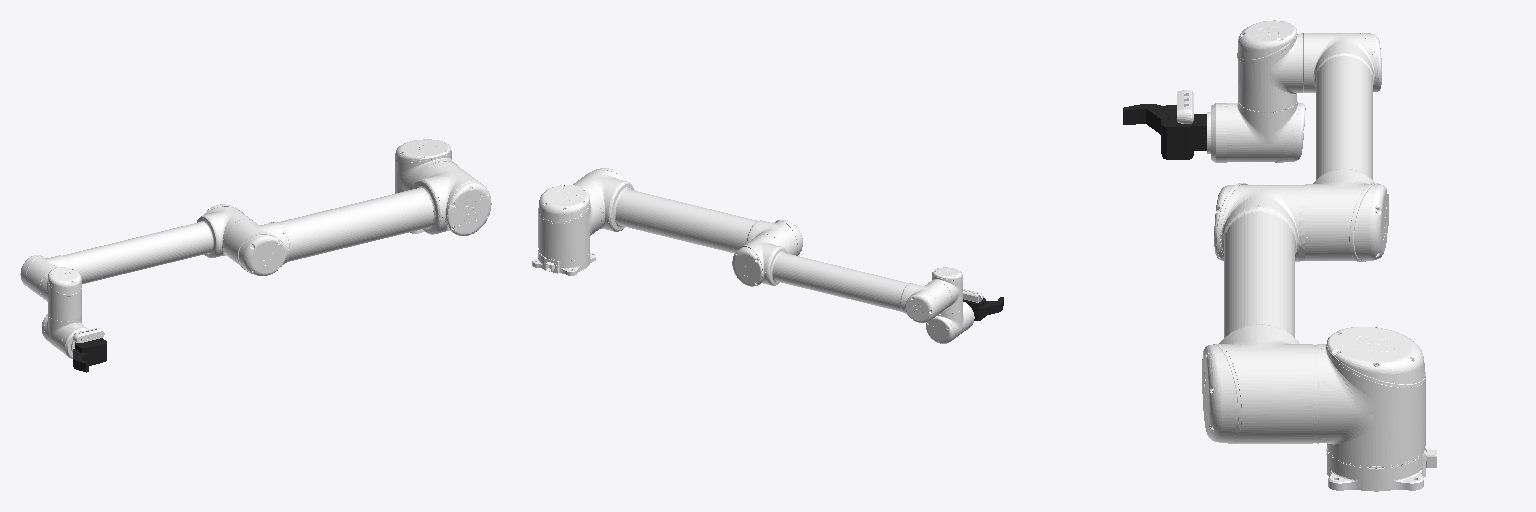
URDF robot description (ur10_robotis_d435):
<?xml version="1.0" ?>
<!-- =================================================================================== -->
<!-- |    This document was autogenerated by xacro from xacro/ur10_robot.urdf.xacro    | -->
<!-- |    EDITING THIS FILE BY HAND IS NOT RECOMMENDED                                 | -->
<!-- =================================================================================== -->
<robot name="ur10_robotis_d435">
  <!--
  Author: Kelsey Hawkins
  Contributers: Jimmy Da Silva, Ajit Krisshna N L, Muhammad Asif Rana
-->
  <!-- ROS base_link to UR 'Base' Coordinates transform -->
  <link name="base">
    <inertial>
      <mass value="1e-3"/>
      <origin rpy="0 0 0" xyz="0.0 0.0 0.0"/>
      <inertia ixx="1e-5" ixy="0.0" ixz="0.0" iyy="1e-5" iyz="0.0" izz="1e-5"/>
    </inertial>
  </link>
  <joint name="base_link-base_fixed_joint" type="fixed">
    <!-- NOTE: this rotation is only needed as long as base_link itself is
                 not corrected wrt the real robot (ie: rotated over 180
                 degrees)
      -->
    <origin rpy="0 0 -3.141592653589793" xyz="0 0 0"/>
    <parent link="base"/>
    <child link="base_link"/>
  </joint>
  <!-- measured from model -->
  <!-- Calibration values used from ELPIS UR10 Robot -->
  <link name="base_link">
    <visual>
      <geometry>
        <mesh filename="package://ur10/visual/base.obj"/>
      </geometry>
      <material name="white">
        <color rgba="1.0 1.0 1.0 1.0"/>
      </material>
    </visual>
    <collision>
      <geometry>
        <mesh filename="package://ur10/collision/base.stl"/>
      </geometry>
    </collision>
    <inertial>
      <mass value="4.0"/>
      <origin rpy="0 0 0" xyz="0.0 0.0 0.0"/>
      <inertia ixx="0.0061063308908" ixy="0.0" ixz="0.0" iyy="0.0061063308908" iyz="0.0" izz="0.01125"/>
    </inertial>
  </link>
  <joint name="shoulder_pan_joint" type="revolute">
    <parent link="base_link"/>
    <child link="shoulder_link"/>
    <origin rpy="0.0 0.0 0.0" xyz="0.0 0.0 0.1273"/>
    <axis xyz="0 0 1"/>
    <limit effort="330.0" lower="-1000" upper="1000" velocity="2.16"/>
    <dynamics damping="0.0" friction="0.0"/>
  </joint>
  <link name="shoulder_link">
    <visual>
      <geometry>
        <mesh filename="package://ur10/visual/shoulder.obj"/>
      </geometry>
      <material name="white">
        <color rgba="1.0 1.0 1.0 1.0"/>
      </material>
    </visual>
    <collision>
      <geometry>
        <mesh filename="package://ur10/collision/shoulder.stl"/>
      </geometry>
    </collision>
    <inertial>
      <mass value="7.778"/>
      <origin rpy="0 0 0" xyz="0.0 0.0 0.0"/>
      <inertia ixx="0.03147431257693659" ixy="0.0" ixz="0.0" iyy="0.03147431257693659" iyz="0.0" izz="0.021875624999999996"/>
    </inertial>
  </link>
  <joint name="shoulder_lift_joint" type="revolute">
    <parent link="shoulder_link"/>
    <child link="upper_arm_link"/>
    <origin rpy="0.0 1.5707963267948966 0.0" xyz="0.0 0.220941 0.0"/>
    <axis xyz="0 1 0"/>
    <limit effort="330.0" lower="-6.283185307179586" upper="6.283185307179586" velocity="2.16"/>
    <dynamics damping="0.0" friction="0.0"/>
  </joint>
  <link name="upper_arm_link">
    <visual>
      <geometry>
        <mesh filename="package://ur10/visual/upperarm.obj"/>
      </geometry>
      <material name="white">
        <color rgba="1.0 1.0 1.0 1.0"/>
      </material>
    </visual>
    <collision>
      <geometry>
        <mesh filename="package://ur10/collision/upperarm.stl"/>
      </geometry>
    </collision>
    <inertial>
      <mass value="12.93"/>
      <origin rpy="0 0 0" xyz="0.0 -0.045 0.306"/>
      <inertia ixx="0.42175380379841093" ixy="0.0" ixz="0.0" iyy="0.42175380379841093" iyz="0.0" izz="0.03636562499999999"/>
    </inertial>
  </link>
  <joint name="elbow_joint" type="revolute">
    <parent link="upper_arm_link"/>
    <child link="forearm_link"/>
    <origin rpy="0.0 0.0 0.0" xyz="0.0 -0.1719 0.612"/>
    <axis xyz="0 1 0"/>
    <limit effort="150.0" lower="-3.141592653589793" upper="3.141592653589793" velocity="3.15"/>
    <dynamics damping="0.0" friction="0.0"/>
  </joint>
  <link name="forearm_link">
    <visual>
      <geometry>
        <mesh filename="package://ur10/visual/forearm.obj"/>
      </geometry>
      <material name="white">
        <color rgba="1.0 1.0 1.0 1.0"/>
      </material>
    </visual>
    <collision>
      <geometry>
        <mesh filename="package://ur10/collision/forearm.stl"/>
      </geometry>
    </collision>
    <inertial>
      <mass value="3.87"/>
      <origin rpy="0 0 0" xyz="0.0 0.0 0.28615"/>
      <inertia ixx="0.11106969409710458" ixy="0.0" ixz="0.0" iyy="0.11106969409710458" iyz="0.0" izz="0.010884375"/>
    </inertial>
  </link>
  <joint name="wrist_1_joint" type="revolute">
    <parent link="forearm_link"/>
    <child link="wrist_1_link"/>
    <origin rpy="0.0 1.5707963267948966 0.0" xyz="0.0 0.0 0.5723"/>
    <axis xyz="0 1 0"/>
    <limit effort="54.0" lower="-6.283185307179586" upper="6.283185307179586" velocity="3.2"/>
    <dynamics damping="0.0" friction="0.0"/>
  </joint>
  <link name="wrist_1_link">
    <visual>
      <geometry>
        <mesh filename="package://ur10/visual/wrist1.obj"/>
      </geometry>
      <material name="white">
        <color rgba="1.0 1.0 1.0 1.0"/>
      </material>
    </visual>
    <collision>
      <geometry>
        <mesh filename="package://ur10/collision/wrist1.stl"/>
      </geometry>
    </collision>
    <inertial>
      <mass value="1.96"/>
      <origin rpy="0 0 0" xyz="0.0 0.1149 0.0"/>
      <inertia ixx="0.005108247956699999" ixy="0.0" ixz="0.0" iyy="0.005108247956699999" iyz="0.0" izz="0.005512499999999999"/>
    </inertial>
  </link>
  <joint name="wrist_2_joint" type="revolute">
    <parent link="wrist_1_link"/>
    <child link="wrist_2_link"/>
    <origin rpy="0.0 0.0 0.0" xyz="0.0 0.1149 0.0"/>
    <axis xyz="0 0 1"/>
    <limit effort="54.0" lower="-6.283185307179586" upper="6.283185307179586" velocity="3.2"/>
    <dynamics damping="0.0" friction="0.0"/>
  </joint>
  <link name="wrist_2_link">
    <visual>
      <geometry>
        <mesh filename="package://ur10/visual/wrist2.obj"/>
      </geometry>
      <material name="white">
        <color rgba="1.0 1.0 1.0 1.0"/>
      </material>
    </visual>
    <collision>
      <geometry>
        <mesh filename="package://ur10/collision/wrist2.stl"/>
      </geometry>
    </collision>
    <inertial>
      <mass value="1.96"/>
      <origin rpy="0 0 0" xyz="0.0 0.0 0.1157"/>
      <inertia ixx="0.005108247956699999" ixy="0.0" ixz="0.0" iyy="0.005108247956699999" iyz="0.0" izz="0.005512499999999999"/>
    </inertial>
  </link>
  <joint name="wrist_3_joint" type="revolute">
    <parent link="wrist_2_link"/>
    <child link="wrist_3_link"/>
    <origin rpy="0.0 0.0 0.0" xyz="0.0 0.0 0.1157"/>
    <axis xyz="0 1 0"/>
    <limit effort="54.0" lower="-1000" upper="1000" velocity="3.2"/>
    <dynamics damping="0.0" friction="0.0"/>
  </joint>
  <link name="wrist_3_link">
    <visual>
      <geometry>
        <mesh filename="package://ur10/visual/wrist3.obj"/>
      </geometry>
      <material name="white">
        <color rgba="1.0 1.0 1.0 1.0"/>
      </material>
    </visual>
    <collision>
      <geometry>
        <mesh filename="package://ur10/collision/wrist3.stl"/>
      </geometry>
    </collision>
    <inertial>
      <mass value="0.202"/>
      <origin rpy="1.5707963267948966 0 0" xyz="0.0 0.07695 0.0"/>
      <inertia ixx="0.00011792166116465" ixy="0.0" ixz="0.0" iyy="0.00011792166116465" iyz="0.0" izz="0.00020452500000000002"/>
    </inertial>
  </link>
  <transmission name="shoulder_pan_trans">
    <type>transmission_interface/SimpleTransmission</type>
    <joint name="shoulder_pan_joint">
      <hardwareInterface>hardware_interface/PositionJointInterface</hardwareInterface>
    </joint>
    <actuator name="shoulder_pan_motor">
      <mechanicalReduction>1</mechanicalReduction>
    </actuator>
  </transmission>
  <transmission name="shoulder_lift_trans">
    <type>transmission_interface/SimpleTransmission</type>
    <joint name="shoulder_lift_joint">
      <hardwareInterface>hardware_interface/PositionJointInterface</hardwareInterface>
    </joint>
    <actuator name="shoulder_lift_motor">
      <mechanicalReduction>1</mechanicalReduction>
    </actuator>
  </transmission>
  <transmission name="elbow_trans">
    <type>transmission_interface/SimpleTransmission</type>
    <joint name="elbow_joint">
      <hardwareInterface>hardware_interface/PositionJointInterface</hardwareInterface>
    </joint>
    <actuator name="elbow_motor">
      <mechanicalReduction>1</mechanicalReduction>
    </actuator>
  </transmission>
  <transmission name="wrist_1_trans">
    <type>transmission_interface/SimpleTransmission</type>
    <joint name="wrist_1_joint">
      <hardwareInterface>hardware_interface/PositionJointInterface</hardwareInterface>
    </joint>
    <actuator name="wrist_1_motor">
      <mechanicalReduction>1</mechanicalReduction>
    </actuator>
  </transmission>
  <transmission name="wrist_2_trans">
    <type>transmission_interface/SimpleTransmission</type>
    <joint name="wrist_2_joint">
      <hardwareInterface>hardware_interface/PositionJointInterface</hardwareInterface>
    </joint>
    <actuator name="wrist_2_motor">
      <mechanicalReduction>1</mechanicalReduction>
    </actuator>
  </transmission>
  <transmission name="wrist_3_trans">
    <type>transmission_interface/SimpleTransmission</type>
    <joint name="wrist_3_joint">
      <hardwareInterface>hardware_interface/PositionJointInterface</hardwareInterface>
    </joint>
    <actuator name="wrist_3_motor">
      <mechanicalReduction>1</mechanicalReduction>
    </actuator>
  </transmission>
  <gazebo reference="shoulder_link">
    <selfCollide>true</selfCollide>
  </gazebo>
  <gazebo reference="upper_arm_link">
    <selfCollide>true</selfCollide>
  </gazebo>
  <gazebo reference="forearm_link">
    <selfCollide>true</selfCollide>
  </gazebo>
  <gazebo reference="wrist_1_link">
    <selfCollide>true</selfCollide>
  </gazebo>
  <gazebo reference="wrist_3_link">
    <selfCollide>true</selfCollide>
  </gazebo>
  <gazebo reference="wrist_2_link">
    <selfCollide>true</selfCollide>
  </gazebo>
  <gazebo reference="ee_link">
    <selfCollide>true</selfCollide>
  </gazebo>
  <!-- ROS base_link to UR 'Base' Coordinates transform -->
  <!-- Frame coincident with all-zeros TCP on UR controller -->
  <link name="tool0">
    <inertial>
      <mass value="1e-3"/>
      <origin rpy="0 0 0" xyz="0.0 0.0 0.0"/>
      <inertia ixx="1e-5" ixy="0.0" ixz="0.0" iyy="1e-5" iyz="0.0" izz="1e-5"/>
    </inertial>
  </link>
  <joint name="wrist_3_link-tool0_fixed_joint" type="fixed">
    <origin rpy="-1.5707963267948966 0 0" xyz="0 0.0922 0"/>
    <parent link="wrist_3_link"/>
    <child link="tool0"/>
  </joint>
  <material name="grey">
    <color rgba="0.2 0.2 0.2 1.0"/>
  </material>
  <!-- base -->
  <joint name="tool0_rh_p12_rn_base" type="fixed">
    <origin rpy="0 0 -1.570796" xyz="0 0 0"/>
    <parent link="tool0"/>
    <child link="rh_p12_rn_base"/>
  </joint>
  <link name="rh_p12_rn_base">
    <collision>
      <origin xyz="0 0 0" rpy="0 0 0"/>
      <geometry>
        <mesh filename="package://robotis_rh_p12_rn/collision/base.stl" scale="0.001 0.001 0.001"/>
      </geometry>
    </collision>
    <visual>
      <origin xyz="0 0 0" rpy="0 0 0"/>
      <geometry>
        <mesh filename="package://robotis_rh_p12_rn/visual/base.stl" scale="0.001 0.001 0.001"/>
      </geometry>
      <material name="grey"/>
    </visual>
    <inertial>
      <origin xyz="0.000 0.000 0.032" rpy="0 0 0"/>
      <mass value="0.236"/>
      <!--<inertia ixx="0.00017" ixy="0.0" ixz="0.0" iyy="0.00011" iyz="0.0" izz="0.00017" />-->
      <!--<inertia ixx="1.0" ixy="0.0" ixz="0.0" iyy="1.0" iyz="0.0" izz="1.0" />-->
      <inertia ixx="0.001" ixy="0.0" ixz="0.0" iyy="0.001" iyz="0.0" izz="0.001" />
    </inertial>
  </link>
  <!-- Joint -->
  <joint name="rh_p12_rn" type="revolute">
    <parent link="rh_p12_rn_base"/>
    <child link="rh_p12_rn_r1"/>
    <origin xyz="0.0 0.008 0.058" rpy="0 0 0"/>
    <axis xyz="1 0 0"/>
    <limit velocity="6.5" effort="1000" lower="0.0" upper="1.12" />
    <dynamics damping="0.7"/>
  </joint>
  <gazebo reference="rh_p12_rn">
    <PID type="position">
      <p>1000.0</p>
      <i>0.0</i>
      <d>100.0</d>
    </PID>
  </gazebo>
  <transmission name="tran_r1">
    <type>transmission_interface/SimpleTransmission</type>
    <joint name="rh_p12_rn">
      <hardwareInterface>hardware_interface/PositionJointInterface</hardwareInterface>
    </joint>
    <actuator name="motor_r1">
      <hardwareInterface>hardware_interface/PositionJointInterface</hardwareInterface>
      <mechanicalReduction>1</mechanicalReduction>
    </actuator>
  </transmission>
  <!-- rh_p12_rn_r1 -->
  <link name="rh_p12_rn_r1">
    <collision>
      <origin xyz="0 0 0" rpy="0 0 0"/>
      <geometry>
        <mesh filename="package://robotis_rh_p12_rn/collision/r1.stl" scale="0.001 0.001 0.001"/>
      </geometry>
    </collision>
    <visual>
      <origin xyz="0 0 0" rpy="0 0 0"/>
      <geometry>
        <mesh filename="package://robotis_rh_p12_rn/visual/r1.stl" scale="0.001 0.001 0.001"/>
      </geometry>
      <material name="grey"/>
    </visual>
    <inertial>
      <origin xyz="0.000 0.034 0.004" rpy="0 0 0"/>
      <mass value="0.068"/>
      <!--<inertia ixx="0.00004" ixy="0.0" ixz="0.0" iyy="0.00002" iyz="-0.00001" izz="0.00002" />-->
      <!--<inertia ixx="1.0" ixy="0.0" ixz="0.0" iyy="1.0" iyz="0.0" izz="1.0" />-->
      <inertia ixx="0.001" ixy="0.0" ixz="0.0" iyy="0.001" iyz="0.0" izz="0.001" />
    </inertial>
  </link>
  <!-- Right Joint 2 -->
  <joint name="rh_r2" type="revolute">
    <parent link="rh_p12_rn_r1"/>
    <child link="rh_p12_rn_r2"/>
    <origin xyz="0.0 0.0493634 0.0285" rpy="0 0 0"/>
    <axis xyz="-1 0 0"/>
    <limit velocity="6.5" effort="1000" lower="0.0" upper="1.12" />
    <dynamics damping="0.7"/>
    <mimic joint="rh_p12_rn" multiplier="1" offset="0" />
  </joint>
  <gazebo reference="rh_r2">
    <PID type="position">
      <p>1000.0</p>
      <i>0.0</i>
      <d>100.0</d>
    </PID>
  </gazebo>
  <transmission name="tran_r2">
    <type>transmission_interface/SimpleTransmission</type>
    <joint name="rh_r2">
      <hardwareInterface>hardware_interface/PositionJointInterface</hardwareInterface>
    </joint>
    <actuator name="motor_r2">
      <hardwareInterface>hardware_interface/PositionJointInterface</hardwareInterface>
      <mechanicalReduction>1</mechanicalReduction>
    </actuator>
  </transmission>
  <!-- rh_p12_rn_r2 -->
  <link name="rh_p12_rn_r2">
    <collision>
      <origin xyz="0 0 0" rpy="0 0 0"/>
      <geometry>
        <mesh filename="package://robotis_rh_p12_rn/collision/r2.stl" scale="0.001 0.001 0.001"/>
      </geometry>
    </collision>
    <visual>
      <origin xyz="0 0 0" rpy="0 0 0"/>
      <geometry>
        <mesh filename="package://robotis_rh_p12_rn/visual/r2.stl" scale="0.001 0.001 0.001"/>
      </geometry>
      <material name="grey"/>
    </visual>
    <inertial>
      <origin xyz="0.000 0.006 0.011" rpy="0 0 0"/>
      <mass value="0.022"/>
      <!--<inertia ixx="0.0" ixy="0.0" ixz="0.0" iyy="0.00001" iyz="0.0" izz="0.0" />-->
      <!--<inertia ixx="1.0" ixy="0.0" ixz="0.0" iyy="1.0" iyz="0.0" izz="1.0" />-->
      <inertia ixx="0.001" ixy="0.0" ixz="0.0" iyy="0.001" iyz="0.0" izz="0.001" />
    </inertial>
    <contact>
      <friction_anchor/>
      <stiffness value="30000.0"/>
      <damping value="1000.0"/>
      <spinning_friction value="0.1"/>
      <lateral_friction value="1.0"/>
    </contact>
  </link>
  <!-- Left Joint 1 -->
  <joint name="rh_l1" type="revolute">
    <parent link="rh_p12_rn_base"/>
    <child link="rh_p12_rn_l1"/>
    <origin xyz="0.0 -0.008 0.058" rpy="0 0 0"/>
    <axis xyz="-1 0 0"/>
    <limit velocity="6.5" effort="1000" lower="0.0" upper="1.12" />
    <dynamics damping="0.7"/>
    <mimic joint="rh_p12_rn" multiplier="1" offset="0" />
  </joint>
  <gazebo reference="rh_l1">
    <PID type="position">
      <p>1000.0</p>
      <i>0.0</i>
      <d>100.0</d>
    </PID>
  </gazebo>
  <transmission name="tran_l1">
    <type>transmission_interface/SimpleTransmission</type>
    <joint name="rh_l1">
      <hardwareInterface>hardware_interface/PositionJointInterface</hardwareInterface>
    </joint>
    <actuator name="motor_l1">
      <hardwareInterface>hardware_interface/PositionJointInterface</hardwareInterface>
      <mechanicalReduction>1</mechanicalReduction>
    </actuator>
  </transmission>
  <!-- rh_p12_rn_l1 -->
  <link name="rh_p12_rn_l1">
    <collision>
      <origin xyz="0 0 0" rpy="0 0 0"/>
      <geometry>
        <mesh filename="package://robotis_rh_p12_rn/collision/l1.stl" scale="0.001 0.001 0.001"/>
      </geometry>
    </collision>
    <visual>
      <origin xyz="0 0 0" rpy="0 0 0"/>
      <geometry>
        <mesh filename="package://robotis_rh_p12_rn/visual/l1.stl" scale="0.001 0.001 0.001"/>
      </geometry>
      <material name="grey"/>
    </visual>
    <inertial>
      <origin xyz="0.000 -0.034 0.004" rpy="0 0 0"/>
      <mass value="0.068"/>
      <!--<inertia ixx="0.00004" ixy="0.0" ixz="0.0" iyy="0.00002" iyz="0.00001" izz="0.00002" />-->
      <!--<inertia ixx="1.0" ixy="0.0" ixz="0.0" iyy="1.0" iyz="0.0" izz="1.0" />-->
      <inertia ixx="0.001" ixy="0.0" ixz="0.0" iyy="0.001" iyz="0.0" izz="0.001" />
    </inertial>
  </link>
  <!-- Left Joint 2 -->
  <joint name="rh_l2" type="revolute">
    <parent link="rh_p12_rn_l1"/>
    <child link="rh_p12_rn_l2"/>
    <origin xyz="0.0 -0.0493634 0.0285" rpy="0 0 0"/>
    <axis xyz="1 0 0"/>
    <limit velocity="6.5" effort="1000" lower="0.0" upper="1.12" />
    <dynamics damping="0.7"/>
    <mimic joint="rh_p12_rn" multiplier="1" offset="0" />
  </joint>
  <gazebo reference="rh_l2">
    <PID type="position">
      <p>1000.0</p>
      <i>0.0</i>
      <d>100.0</d>
    </PID>
  </gazebo>
  <transmission name="tran_l2">
    <type>transmission_interface/SimpleTransmission</type>
    <joint name="rh_l2">
      <hardwareInterface>hardware_interface/PositionJointInterface</hardwareInterface>
    </joint>
    <actuator name="motor_l2">
      <hardwareInterface>hardware_interface/PositionJointInterface</hardwareInterface>
      <mechanicalReduction>1</mechanicalReduction>
    </actuator>
  </transmission>
  <!-- rh_p12_rn_l2 -->
  <link name="rh_p12_rn_l2">
    <collision>
      <origin xyz="0 0 0" rpy="0 0 0"/>
      <geometry>
        <mesh filename="package://robotis_rh_p12_rn/collision/l2.stl" scale="0.001 0.001 0.001"/>
      </geometry>
    </collision>
    <visual>
      <origin xyz="0 0 0" rpy="0 0 0"/>
      <geometry>
        <mesh filename="package://robotis_rh_p12_rn/visual/l2.stl" scale="0.001 0.001 0.001"/>
      </geometry>
      <material name="grey"/>
    </visual>
    <inertial>
      <origin xyz="0.000 -0.006 0.011" rpy="0 0 0"/>
      <mass value="0.022"/>
      <!--<inertia ixx="0.0" ixy="0.0" ixz="0.0" iyy="0.00001" iyz="0.0" izz="0.0" />-->
      <!--<inertia ixx="1.0" ixy="0.0" ixz="0.0" iyy="1.0" iyz="0.0" izz="1.0" />-->
      <inertia ixx="0.001" ixy="0.0" ixz="0.0" iyy="0.001" iyz="0.0" izz="0.001" />
    </inertial>
    <contact>
      <friction_anchor/>
      <stiffness value="30000.0"/>
      <damping value="1000.0"/>
      <spinning_friction value="0.1"/>
      <lateral_friction value="1.0"/>
    </contact>
  </link>
  <!-- EE -->
  <joint name="ee_fixed_joint" type="fixed">
    <parent link="rh_p12_rn_base"/>
    <child link="ee_link"/>
    <origin rpy="0.0 0.0 0.0" xyz="0.0 0.0 0.145"/>
  </joint>
  <link name="ee_link">
    <inertial>
      <mass value="1e-3"/>
      <origin rpy="0 0 0" xyz="0.0 0.0 0.0"/>
      <inertia ixx="1e-5" ixy="0.0" ixz="0.0" iyy="1e-5" iyz="0.0" izz="1e-5"/>
    </inertial>
  </link>
  <!-- camera body, with origin at bottom screw mount -->
  <joint name="d435_joint" type="fixed">
    <origin rpy="0 -1.5707963267948966 0" xyz="-0.03 0 0.03"/>
    <parent link="rh_p12_rn_base"/>
    <child link="d435_bottom_screw_frame"/>
  </joint>
  <link name="d435_bottom_screw_frame">
    <inertial>
      <origin rpy="0 0 0" xyz="0 0 0"/>
      <mass value="0.001"/>
      <inertia ixx="1E-5" ixy="0" ixz="0" iyy="1E-5" iyz="-0" izz="1E-5"/>
    </inertial>
  </link>
  <joint name="d435_link_joint" type="fixed">
    <origin rpy="0 0 0" xyz="0 0.0175 0.0125"/>
    <parent link="d435_bottom_screw_frame"/>
    <child link="d435_link"/>
  </joint>
  <link name="d435_link">
    <visual>
      <origin rpy="1.5707963267948966 0 1.5707963267948966" xyz="0.0149 -0.0175 0"/>
      <geometry>
        <mesh filename="package://realsense2/visual/d435.obj"/>
      </geometry>
      <material name="white">
        <color rgba="1.0 1.0 1.0 1.0"/>
      </material>
    </visual>
    <collision>
      <origin rpy="0 0 0" xyz="0 -0.0175 0"/>
      <geometry>
        <box size="0.02505 0.09 0.025"/>
      </geometry>
    </collision>
    <inertial>
      <!-- The following are not reliable values, and should not be used for modeling -->
      <mass value="0.564"/>
      <origin xyz="0 0 0"/>
      <inertia ixx="0.003881243" ixy="0.0" ixz="0.0" iyy="0.000498940" iyz="0.0" izz="0.003879257"/>
    </inertial>
  </link>
  <!-- camera depth joints and links -->
  <joint name="d435_depth_joint" type="fixed">
    <origin rpy="1.5707963267948966 0 1.5707963267948966" xyz="0 0 0"/>
    <parent link="d435_link"/>
    <child link="d435_depth_frame"/>
  </joint>
  <link name="d435_depth_frame">
    <inertial>
      <origin rpy="0 0 0" xyz="0 0 0"/>
      <mass value="0.001"/>
      <inertia ixx="1E-5" ixy="0" ixz="0" iyy="1E-5" iyz="-0" izz="1E-5"/>
    </inertial>
  </link>
  <!-- camera color joints and links -->
  <joint name="d435_color_joint" type="fixed">
    <origin rpy="0 0 0" xyz="-0.015 0 0"/>
    <parent link="d435_depth_frame"/>
    <child link="d435_color_frame"/>
  </joint>
  <link name="d435_color_frame">
    <inertial>
      <origin rpy="0 0 0" xyz="0 0 0"/>
      <mass value="0.001"/>
      <inertia ixx="1E-5" ixy="0" ixz="0" iyy="1E-5" iyz="-0" izz="1E-5"/>
    </inertial>
  </link>
</robot>

--- Render facts (derived) ---
3 views of the same robot in one strip: view 1: azimuth 30°, elevation 25°; view 2: azimuth 150°, elevation 25°; view 3: azimuth 270°, elevation 25° (orthographic).
Model ur10_robotis_d435 with 19 links and 18 joints (10 revolute, 8 fixed), rooted at base, posed every joint at zero.
Visible links, largest first — view 1: upper_arm_link, forearm_link, shoulder_link, wrist_1_link, wrist_2_link, rh_p12_rn_base; view 2: upper_arm_link, forearm_link, shoulder_link, wrist_2_link, wrist_1_link, base_link; view 3: upper_arm_link, forearm_link, shoulder_link, wrist_1_link, wrist_2_link, base_link, rh_p12_rn_base, wrist_3_link, d435_link.
Boxes of the visible links, x1,y1,x2,y2 form: upper_arm_link: [225, 161, 491, 275]; forearm_link: [20, 204, 252, 299]; shoulder_link: [395, 139, 457, 193]; wrist_1_link: [40, 267, 81, 321]; wrist_2_link: [42, 314, 87, 352]; rh_p12_rn_base: [75, 338, 106, 365]; upper_arm_link: [573, 168, 802, 255]; forearm_link: [732, 234, 951, 322]; shoulder_link: [538, 185, 601, 260]; wrist_2_link: [926, 305, 971, 343]; wrist_1_link: [929, 267, 962, 313]; base_link: [532, 251, 595, 275]; upper_arm_link: [1202, 183, 1318, 443]; forearm_link: [1299, 33, 1388, 261]; shoulder_link: [1319, 327, 1425, 468]; wrist_1_link: [1237, 20, 1302, 112]; wrist_2_link: [1227, 100, 1305, 162]; base_link: [1326, 448, 1436, 491]; rh_p12_rn_base: [1161, 105, 1206, 159]; wrist_3_link: [1207, 103, 1226, 162]; d435_link: [1177, 90, 1193, 123].
Bounding box of the posed robot: 1.33 × 0.4746 × 0.2501 m (x, y, z).
Meshes: 13 distinct files referenced, 11 mesh visuals loaded (3 binary STL, 8 OBJ); not drawn: 2 (reference not matched to a file when rendering).
